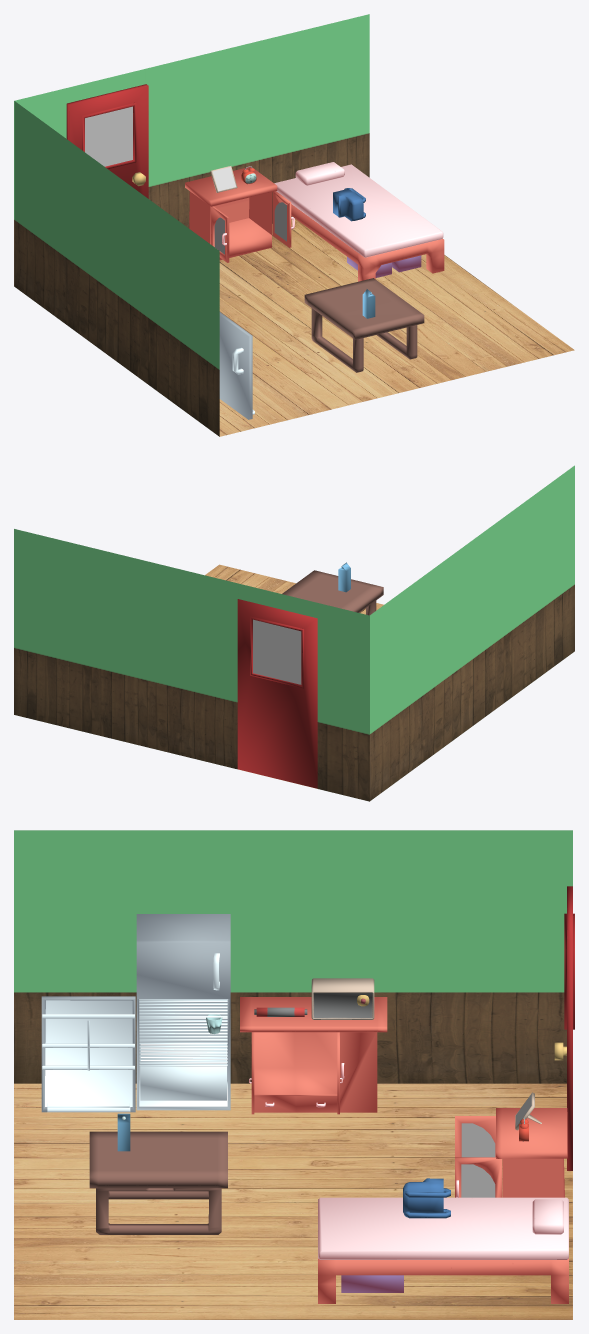
Rendered from quarto do naruto.glb.
3 renders of one model, top to bottom at view 1: azimuth 30°, elevation 25°; view 2: azimuth 150°, elevation 25°; view 3: azimuth 270°, elevation 25°, orthographic. The views are drawn at different scales.
Parts seen in each view (by area): view 1: Pared izquierda_20, Suelo_21, Pared derecha_19, Cama_13, Mueble chico_15, Mesita_9, Puerta_12, Refrigerador_18, Ventana_11, Mochila_10, Vidrios redondos_14; view 2: Pared derecha_19, Pared izquierda_20, Puerta_12, Ventana_11, Mesita_9, Suelo_21; view 3: Pared izquierda_20, Suelo_21, Refrigerador_18, Cama_13, Mueble grande_17, Mesita_9, Mueble chico_15, Radio_6, Puerta_12, Vidrios redondos_14, Mochila_10.
Boxes of the visible parts, x1,y1,x2,y2 form: Pared izquierda_20: (14, 101, 219, 436); Suelo_21: (219, 218, 574, 436); Pared derecha_19: (14, 14, 369, 286); Cama_13: (274, 162, 444, 281); Mueble chico_15: (185, 166, 294, 262); Mesita_9: (304, 278, 424, 372); Puerta_12: (66, 84, 148, 198); Refrigerador_18: (219, 312, 254, 419); Ventana_11: (85, 106, 132, 166); Mochila_10: (333, 188, 365, 221); Vidrios redondos_14: (214, 202, 286, 254); Pared derecha_19: (14, 529, 369, 801); Pared izquierda_20: (370, 465, 574, 800); Puerta_12: (237, 599, 317, 788); Ventana_11: (253, 619, 301, 684); Mesita_9: (282, 570, 383, 615); Suelo_21: (205, 564, 383, 788); Pared izquierda_20: (14, 830, 572, 1083); Suelo_21: (14, 1083, 572, 1319); Refrigerador_18: (41, 914, 230, 1112); Cama_13: (318, 1197, 568, 1303); Mueble grande_17: (240, 997, 387, 1114); Mesita_9: (89, 1131, 227, 1234); Mueble chico_15: (455, 1108, 567, 1197); Radio_6: (311, 978, 374, 1019); Puerta_12: (554, 886, 574, 1170); Vidrios redondos_14: (461, 1123, 495, 1197); Mochila_10: (403, 1178, 450, 1218).
Bounding box in the file's own units: 17.84 × 8.92 × 17.89.
Materials: 8 (7 with a texture image).
